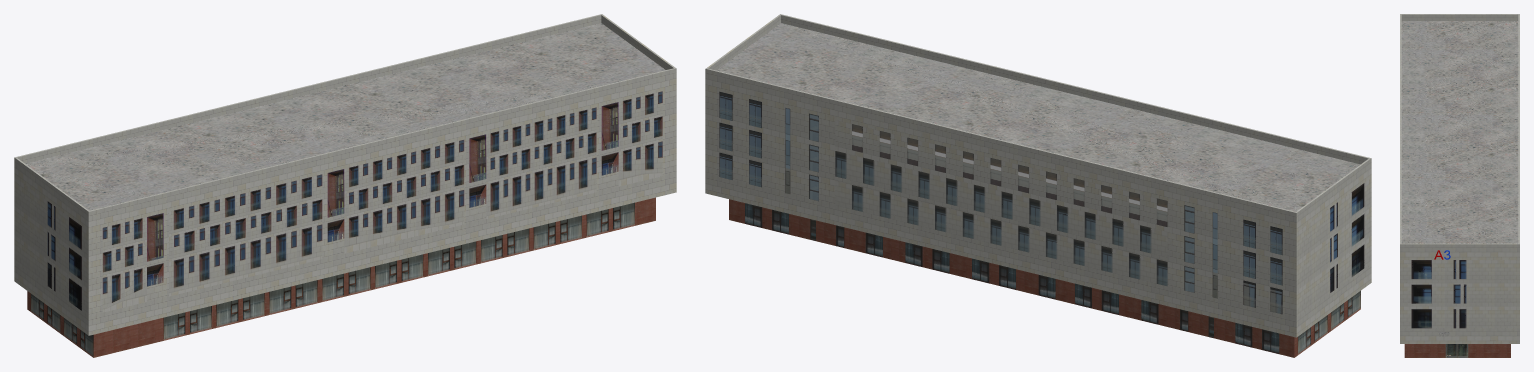
The model's file is A3_XueYuanSuShe.FBX.
3 views of the same model, side by side, from view 1: azimuth 30°, elevation 25°; view 2: azimuth 150°, elevation 25°; view 3: azimuth 270°, elevation 25° (orthographic). The views are drawn at different scales.
Visible parts, largest first — view 1: XueYuanSuShe; view 2: XueYuanSuShe; view 3: XueYuanSuShe.
Part boxes in pixels (x1,y1,x2,y2): XueYuanSuShe: (14, 14, 676, 357); XueYuanSuShe: (705, 14, 1371, 357); XueYuanSuShe: (1400, 14, 1519, 357).
Size of the model in its own units: 7088 by 1726 by 1553.
